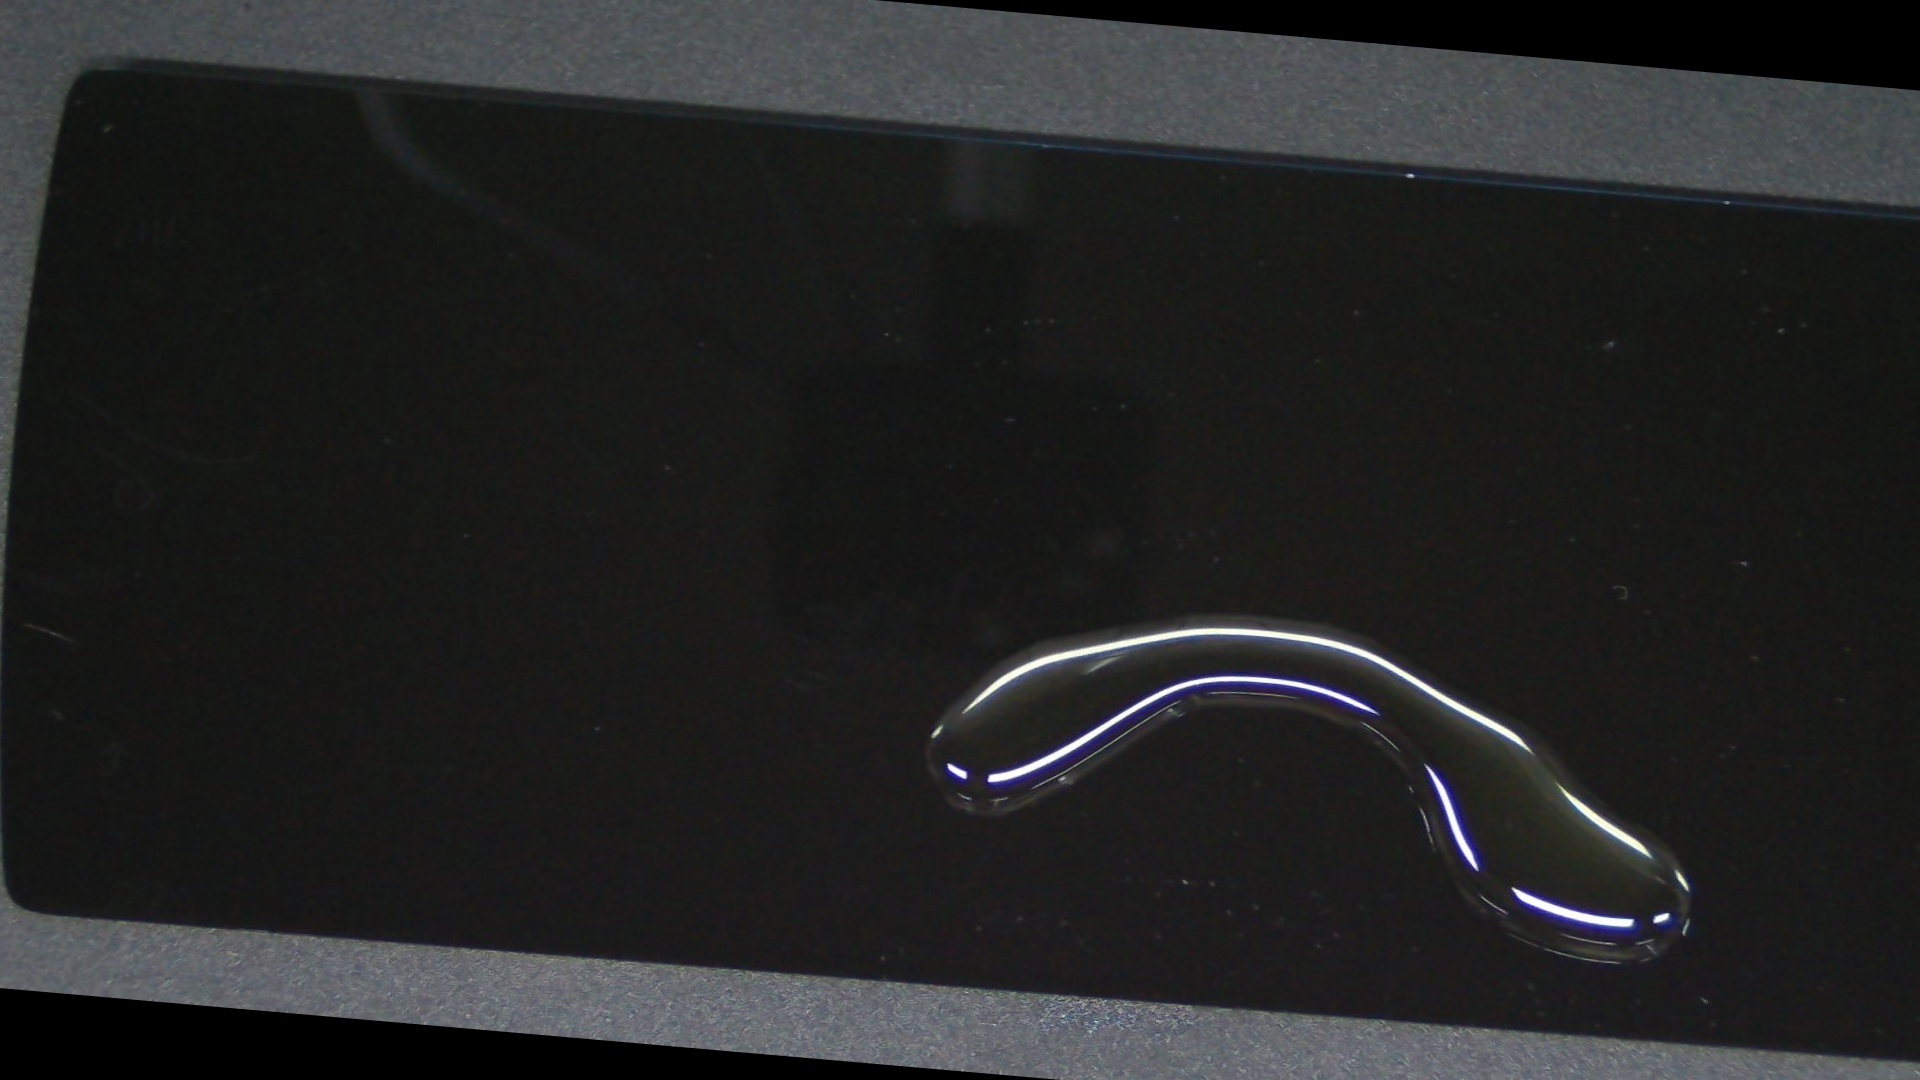oil: (551, 266, 1920, 959)
